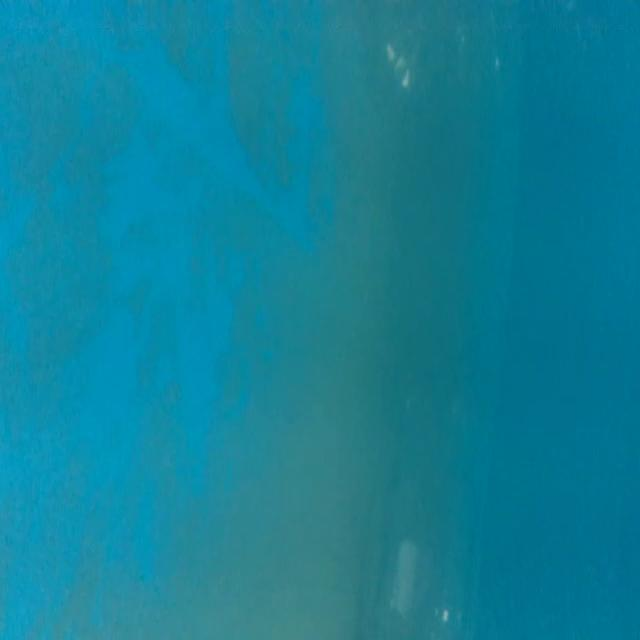plastic bottle: (371, 366, 482, 640)
